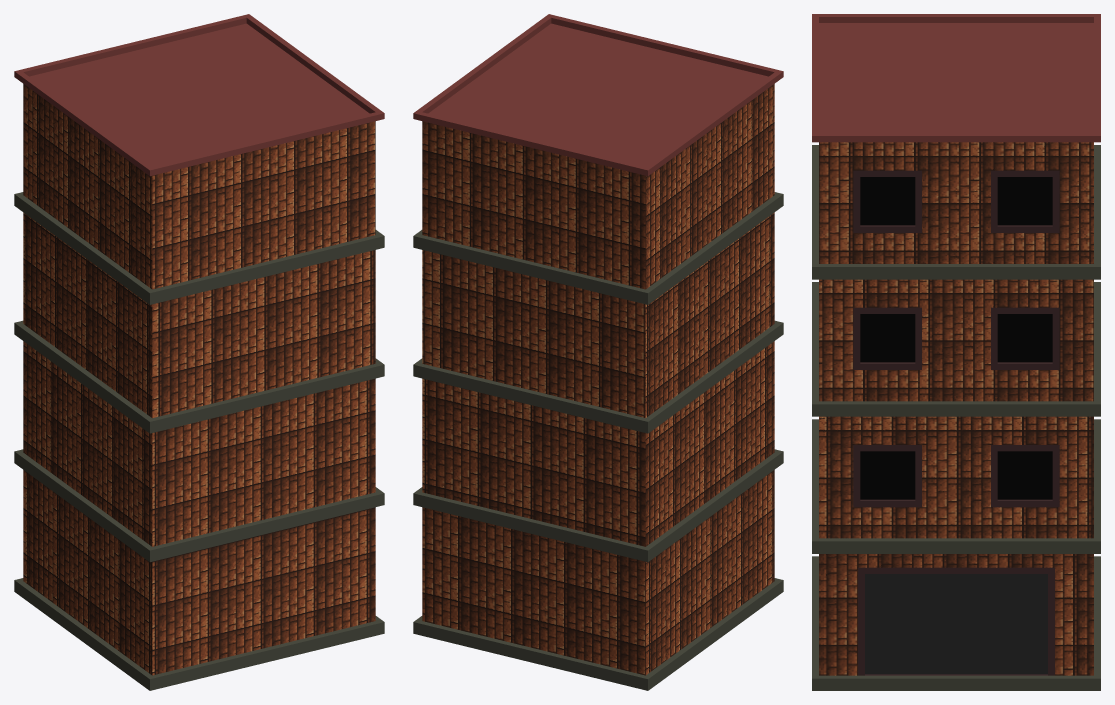
3 views of the same model, side by side, from view 1: azimuth 30°, elevation 25°; view 2: azimuth 150°, elevation 25°; view 3: azimuth 270°, elevation 25° (orthographic). The views are drawn at different scales.
Parts seen in each view (by area): view 1: building_006; view 2: building_006; view 3: building_006.
Boxes of the visible parts, x1,y1,x2,y2 form: building_006: (14, 14, 384, 690); building_006: (413, 14, 783, 690); building_006: (812, 14, 1100, 690).
Size of the model in its own units: 4.2 by 8.9 by 4.2.
6 materials, 1 textured.
